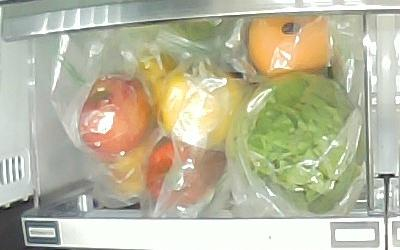apple_vinyl: (77, 73, 153, 159)
grapefruit_vinyl: (248, 18, 332, 77)
lettuce_vinyl: (247, 75, 364, 212)
paprika_vinyl: (161, 66, 242, 146), (147, 137, 227, 206)
